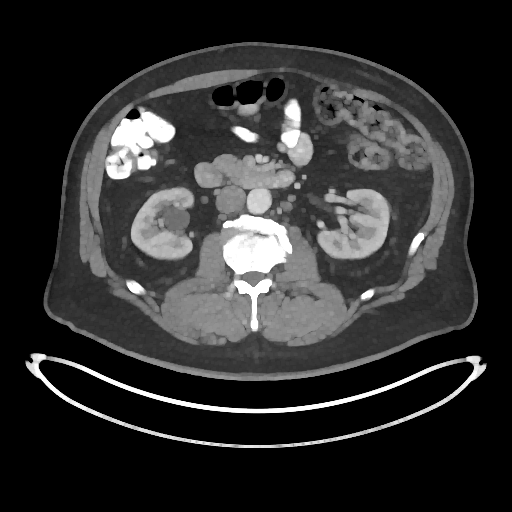Lesion: (162, 203, 190, 233)
